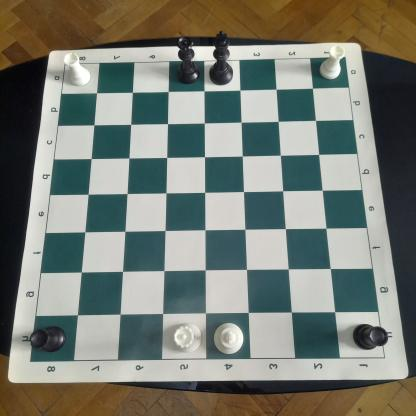black-king: (207, 28, 235, 87)
black-queen: (174, 33, 202, 84)
black-rook: (28, 323, 68, 356), (350, 322, 389, 352)
white-king: (211, 318, 245, 356)
white-queen: (170, 320, 204, 354)
white-rook: (316, 43, 348, 81), (63, 48, 94, 87)
